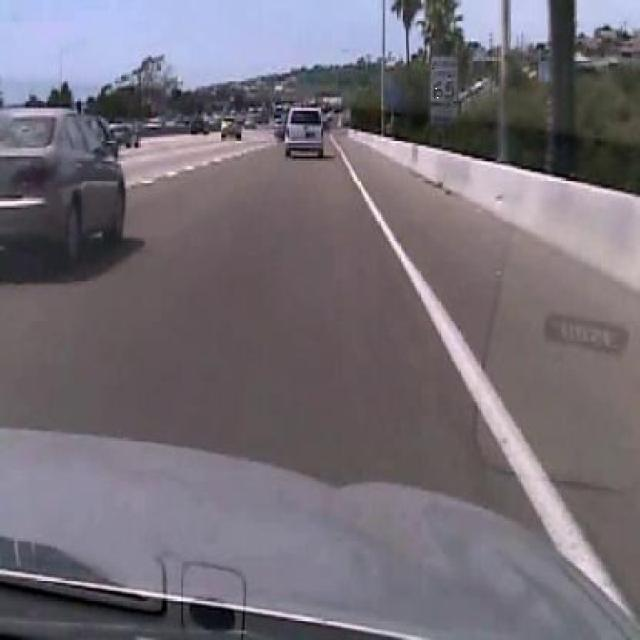speedLimit65: (429, 52, 459, 104)
